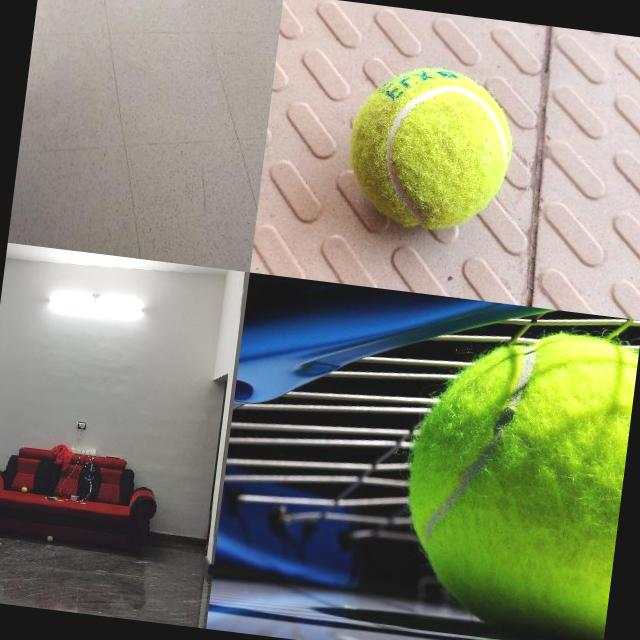Tennis Ball: (390, 315, 639, 640), (342, 60, 520, 237), (47, 534, 54, 542), (20, 486, 28, 492)
